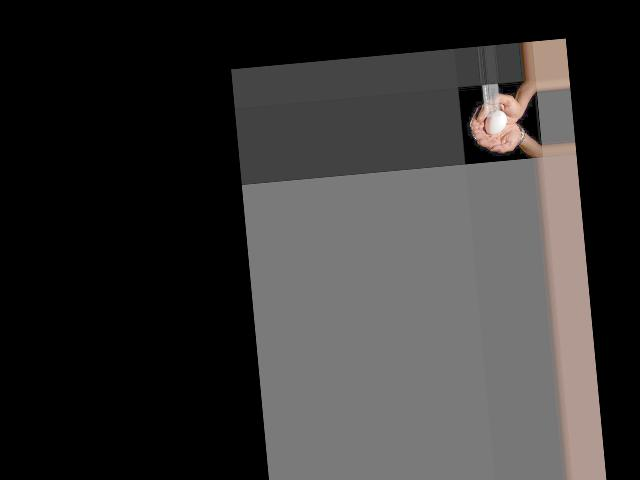egg: (483, 110, 508, 135)
